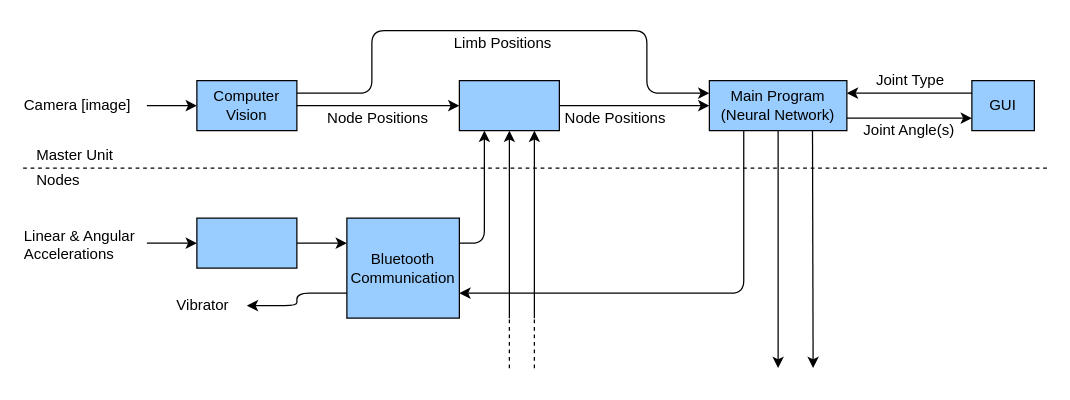
Image size: 1070x400. Some labels were removed from this diagram. The centre of each missing label's shape, as x and y in pixels:
Basic Filtering: the point at 246,242
Kalman Filter: the point at 508,105
